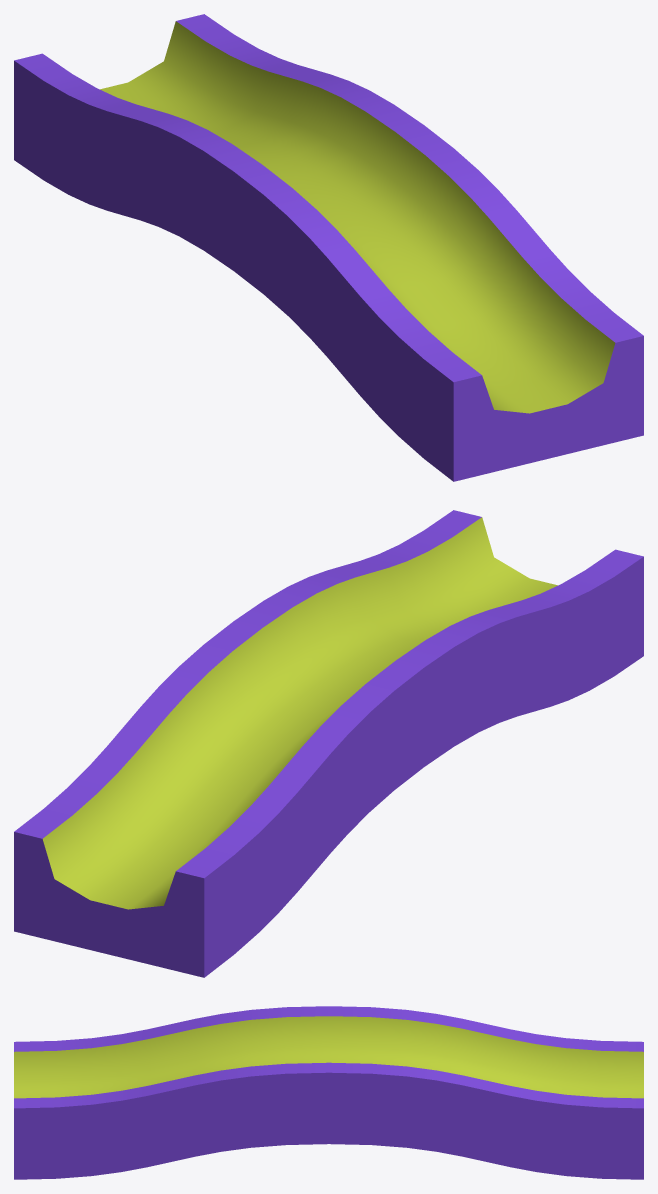
Rendered from bump_A-col.dae.
3 renders of one model, top to bottom at view 1: azimuth 30°, elevation 25°; view 2: azimuth 150°, elevation 25°; view 3: azimuth 270°, elevation 25°, orthographic. The views are drawn at different scales.
Visible parts, largest first — view 1: bump_A-col; view 2: bump_A-col; view 3: bump_A-col.
Boxes of the visible parts, box(x1,y1,x2,y2) form: bump_A-col: box(14, 14, 643, 481); bump_A-col: box(14, 510, 643, 977); bump_A-col: box(14, 1006, 643, 1179).
Size of the model in its own units: 1 by 4 by 0.75.
